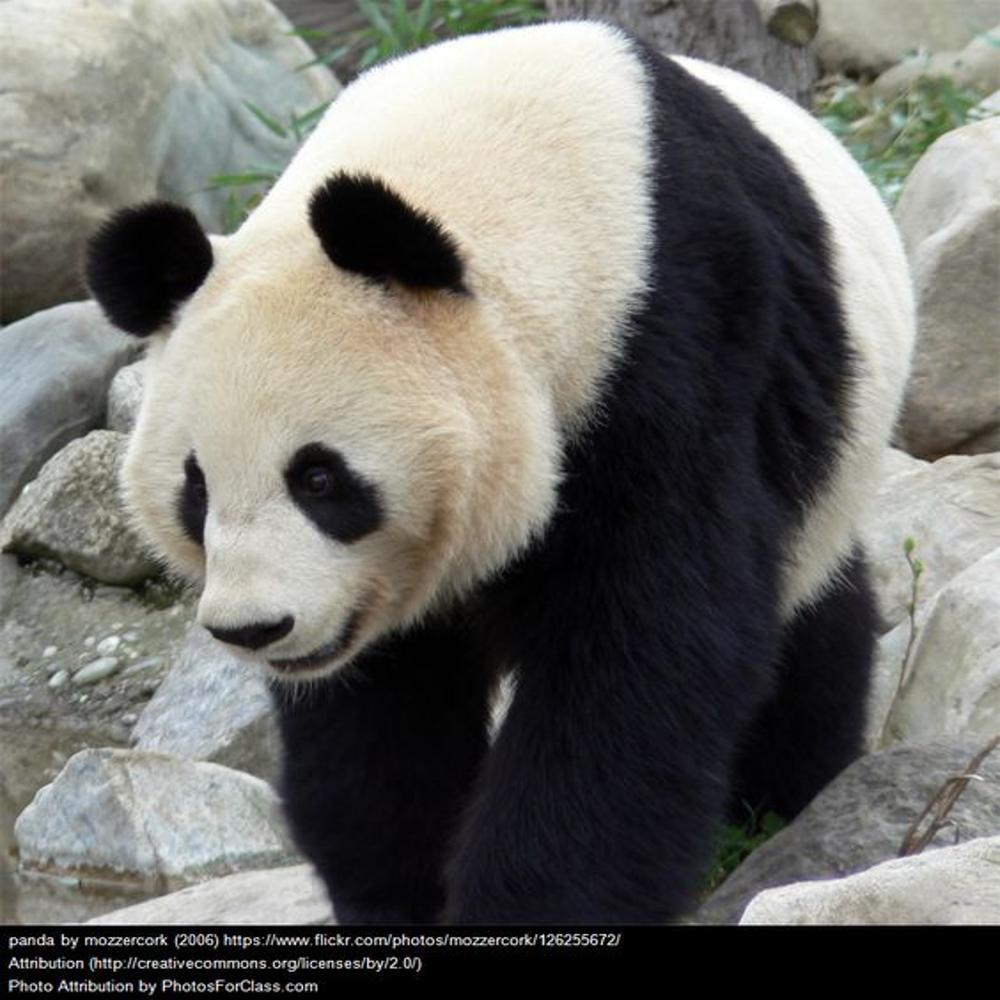panda: (88, 20, 919, 875)
